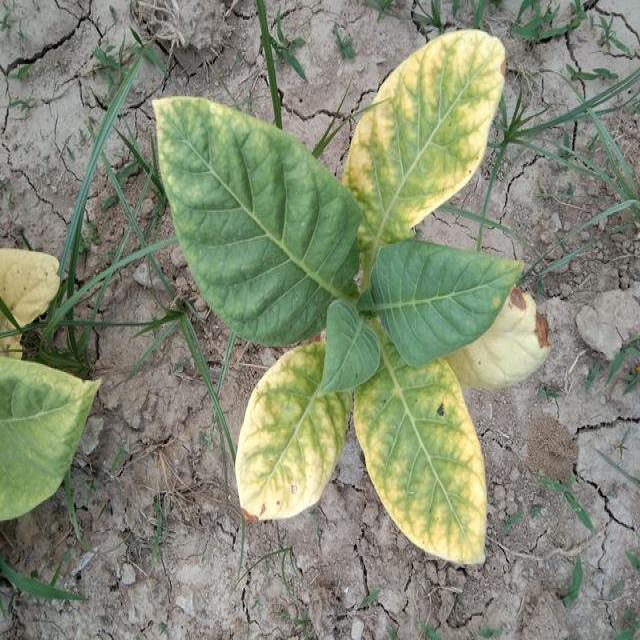crop: (155, 31, 547, 565), (0, 243, 101, 528)
